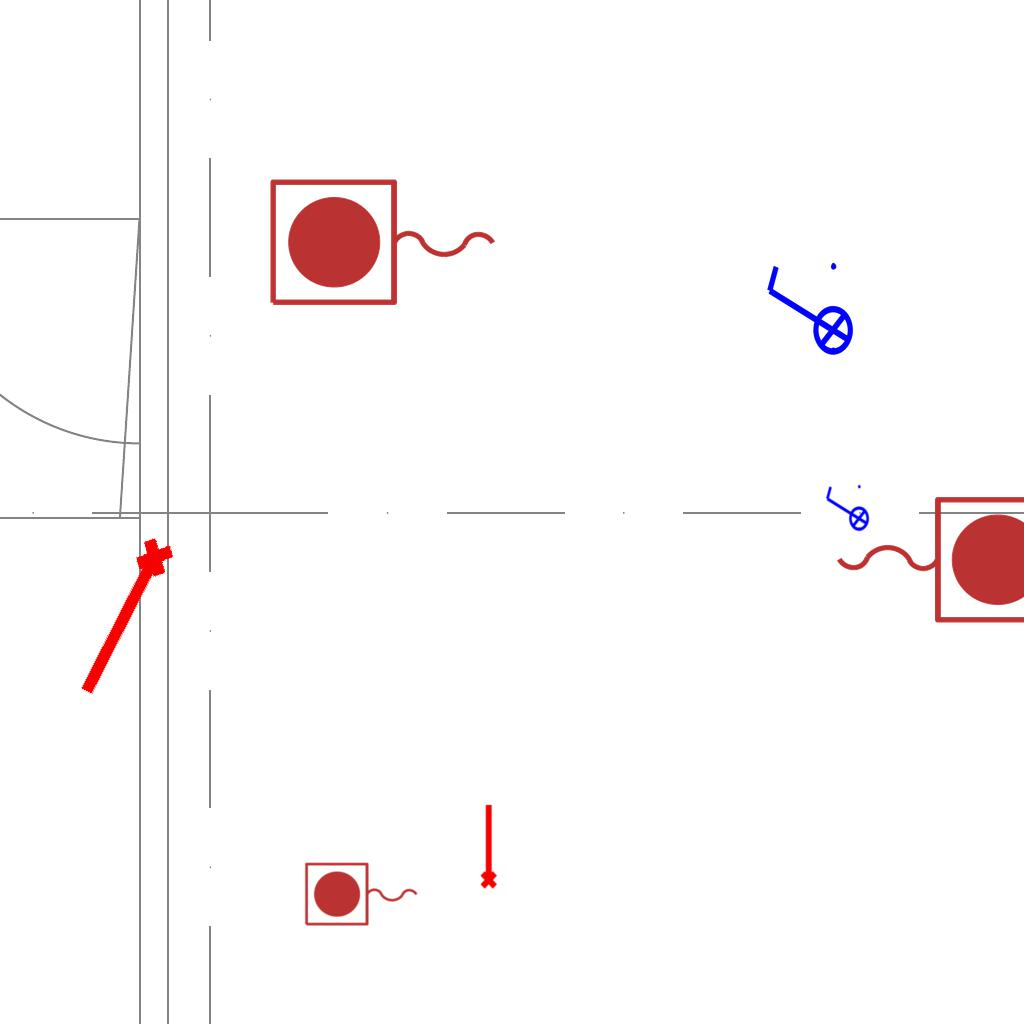ASR_Ansaugoeffnung: (65, 530, 187, 708), (476, 802, 499, 890)
Ausschalter_beleuchtet: (759, 257, 855, 369), (822, 482, 870, 538)
Zugtaster: (262, 172, 506, 316), (826, 486, 1024, 630), (301, 859, 423, 931)
